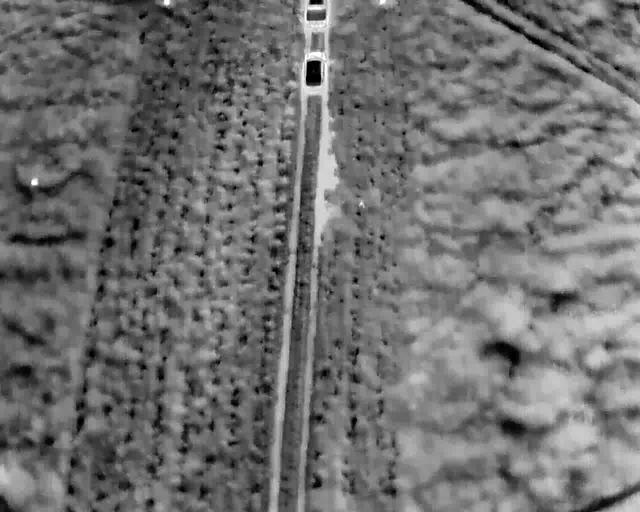car: (301, 51, 326, 94)
